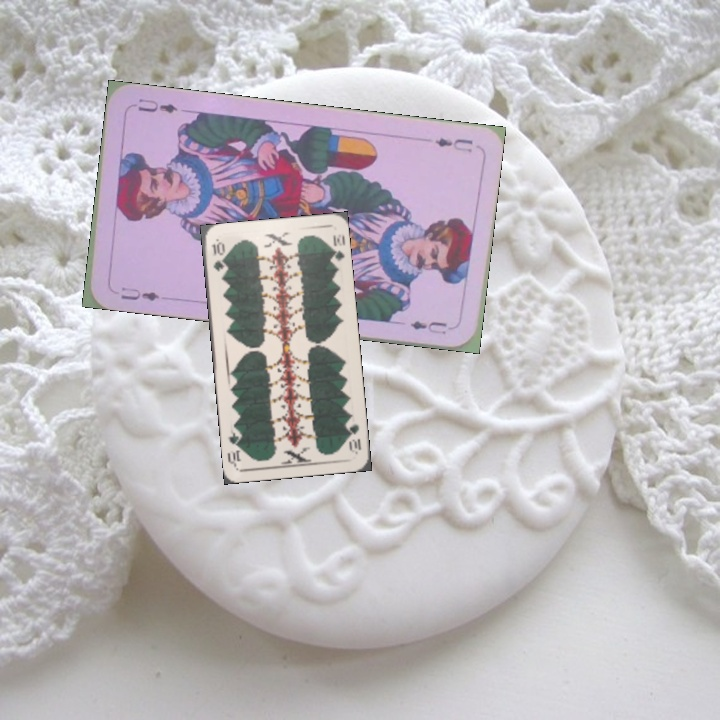EU: (108, 283, 162, 304), (431, 133, 476, 155)
G10: (207, 238, 227, 274), (343, 420, 363, 455)
